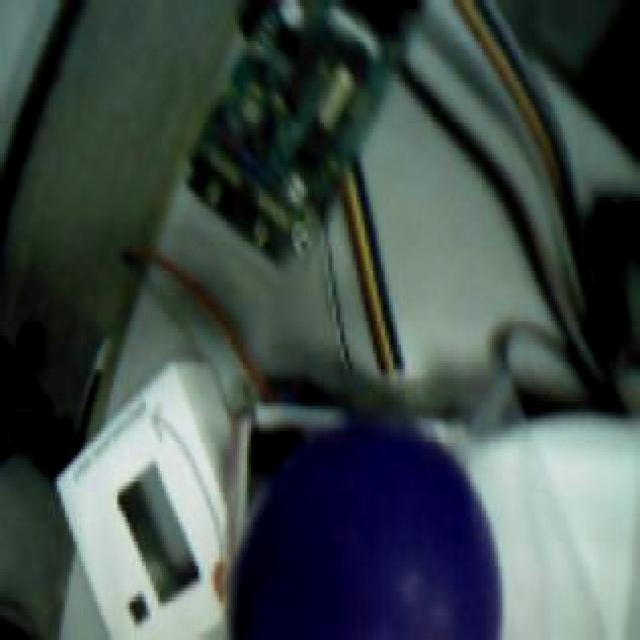BallPurple: (223, 422, 503, 640)
